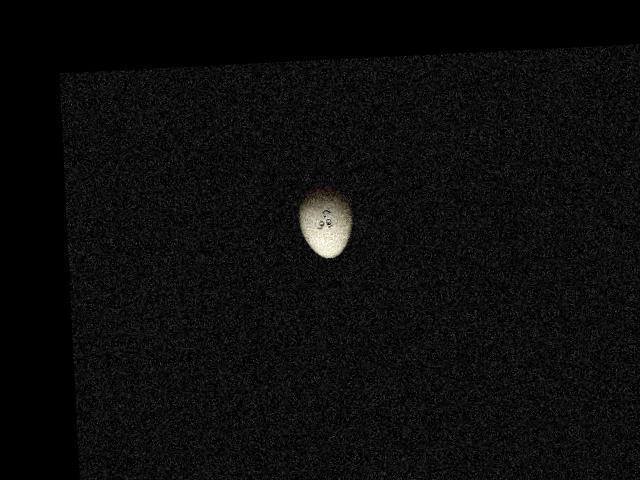egg: (297, 187, 353, 259)
